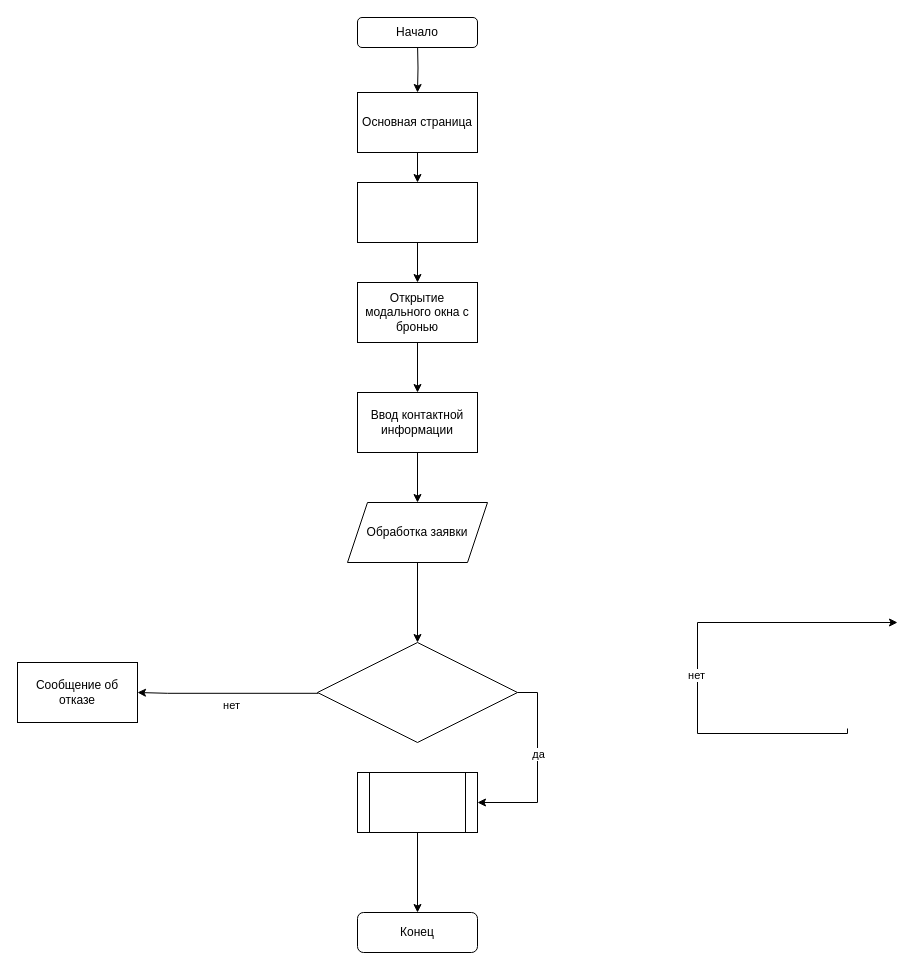
The diagram is 923 pixels wide and 970 high, and some of its shapes have lost their labels. Each missing label, with the box of its shape:
Бронирование места: (356, 182, 478, 242)
Есть ли свободные места: (316, 642, 518, 742)
Подтверждение заявки: (356, 772, 478, 832)
